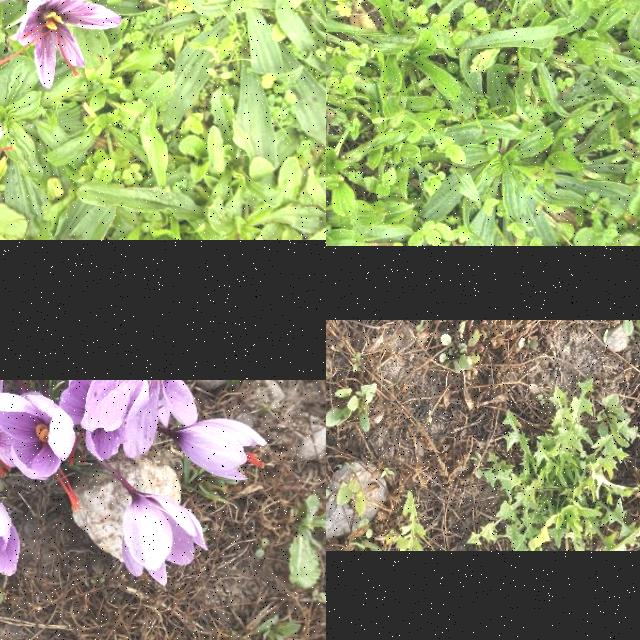flower: (0, 0, 123, 89), (0, 391, 81, 511), (121, 482, 209, 588), (170, 417, 266, 481), (0, 491, 19, 577)
overlap: (0, 380, 199, 478)
